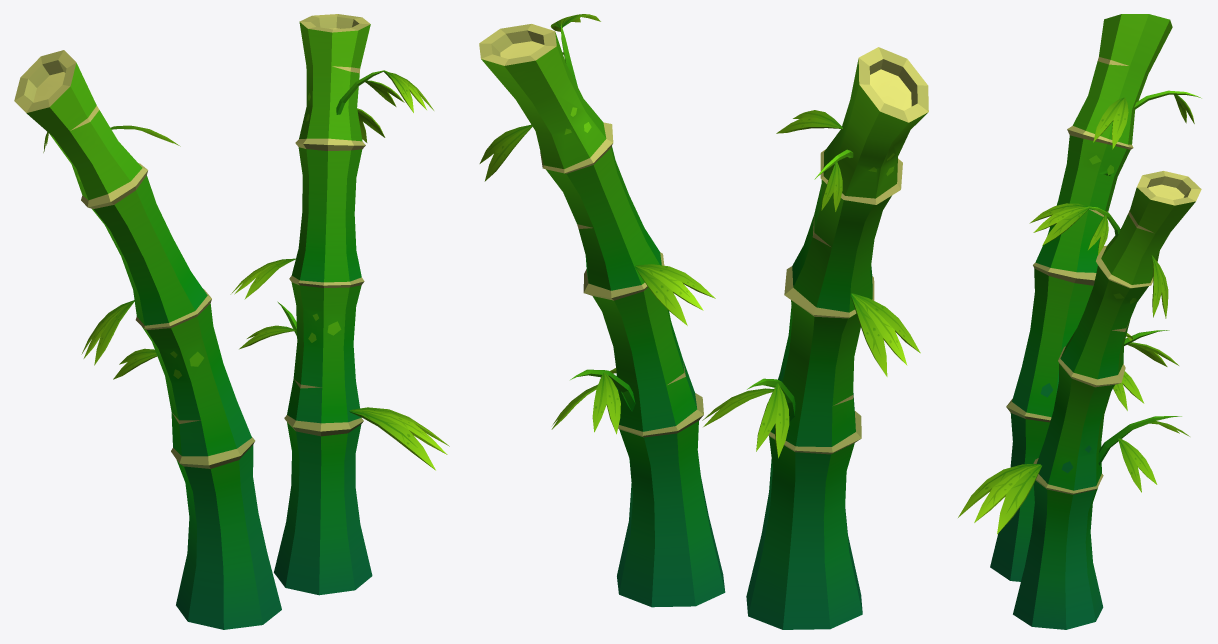
The model's file is bamboo_9.glb.
3 views of the same model, side by side, from view 1: azimuth 30°, elevation 25°; view 2: azimuth 150°, elevation 25°; view 3: azimuth 270°, elevation 25° (orthographic). The views are drawn at different scales.
Parts seen in each view (by area): view 1: bamboo_9; view 2: bamboo_9; view 3: bamboo_9.
Boxes of the visible parts, x1,y1,x2,y2 form: bamboo_9: (14, 14, 449, 629); bamboo_9: (479, 14, 928, 629); bamboo_9: (958, 14, 1201, 629).
Bounding box in the file's own units: 1.9 × 2.63 × 1.17.
Materials: 1 (1 with a texture image).
